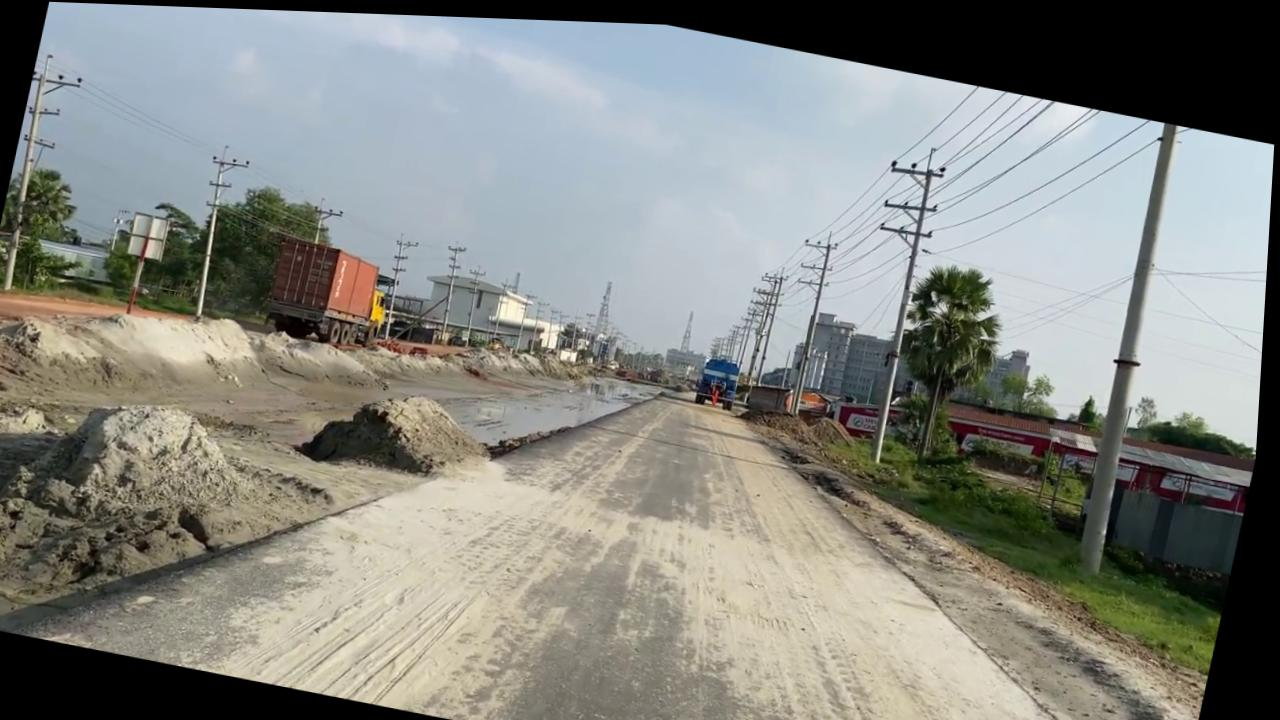Muddy road: (0, 246, 528, 715)
Pole: (1071, 120, 1191, 562), (838, 140, 953, 454)
Rickshaw: (470, 370, 1084, 720)
Traffic-sign: (856, 242, 992, 454)
Tree: (235, 203, 437, 363), (696, 346, 746, 403)
